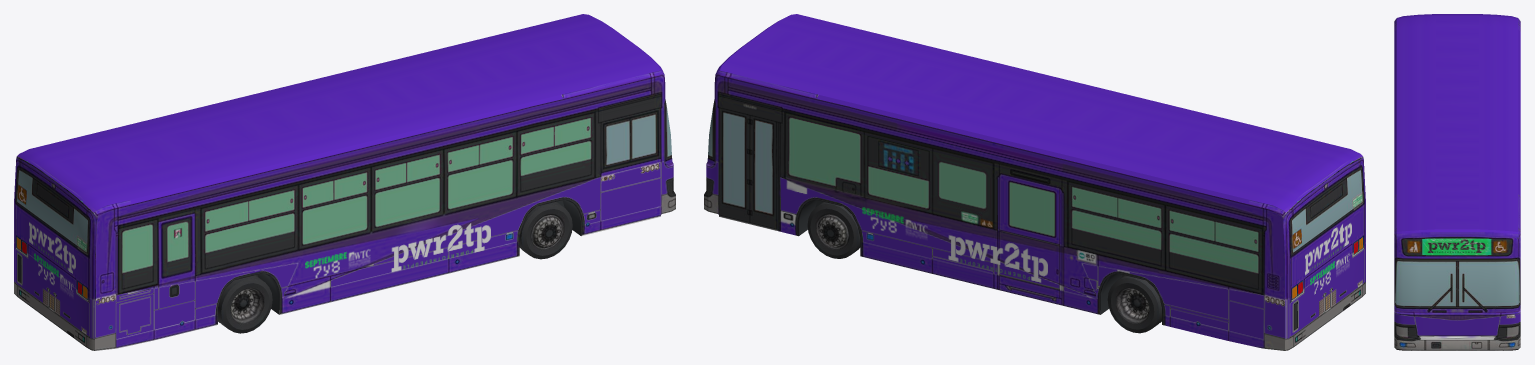
File: bus.glb
The picture shows the model from 3 angles, left to right: view 1: azimuth 30°, elevation 25°; view 2: azimuth 150°, elevation 25°; view 3: azimuth 270°, elevation 25°; orthographic projection. The views are drawn at different scales.
Parts seen in each view (by area): view 1: Object_2; view 2: Object_2; view 3: Object_2.
Boxes of the visible parts, box(x1,y1,x2,y2) form: Object_2: box(14, 14, 675, 350); Object_2: box(704, 14, 1365, 350); Object_2: box(1394, 14, 1520, 350).
Size of the model in its own units: 63.32 by 17.14 by 15.03.
Materials: 1 (1 with a texture image).
